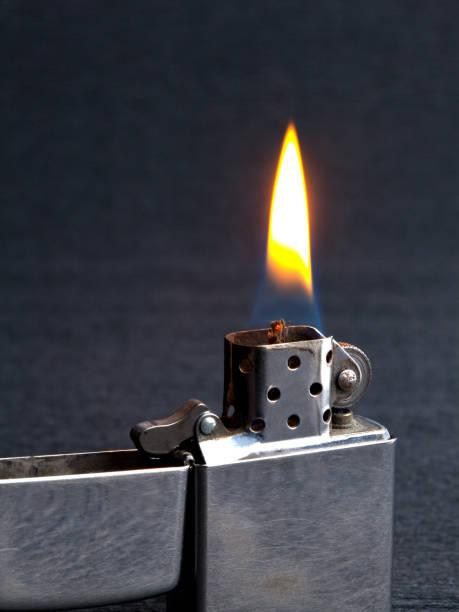Fire: (251, 124, 316, 319)
